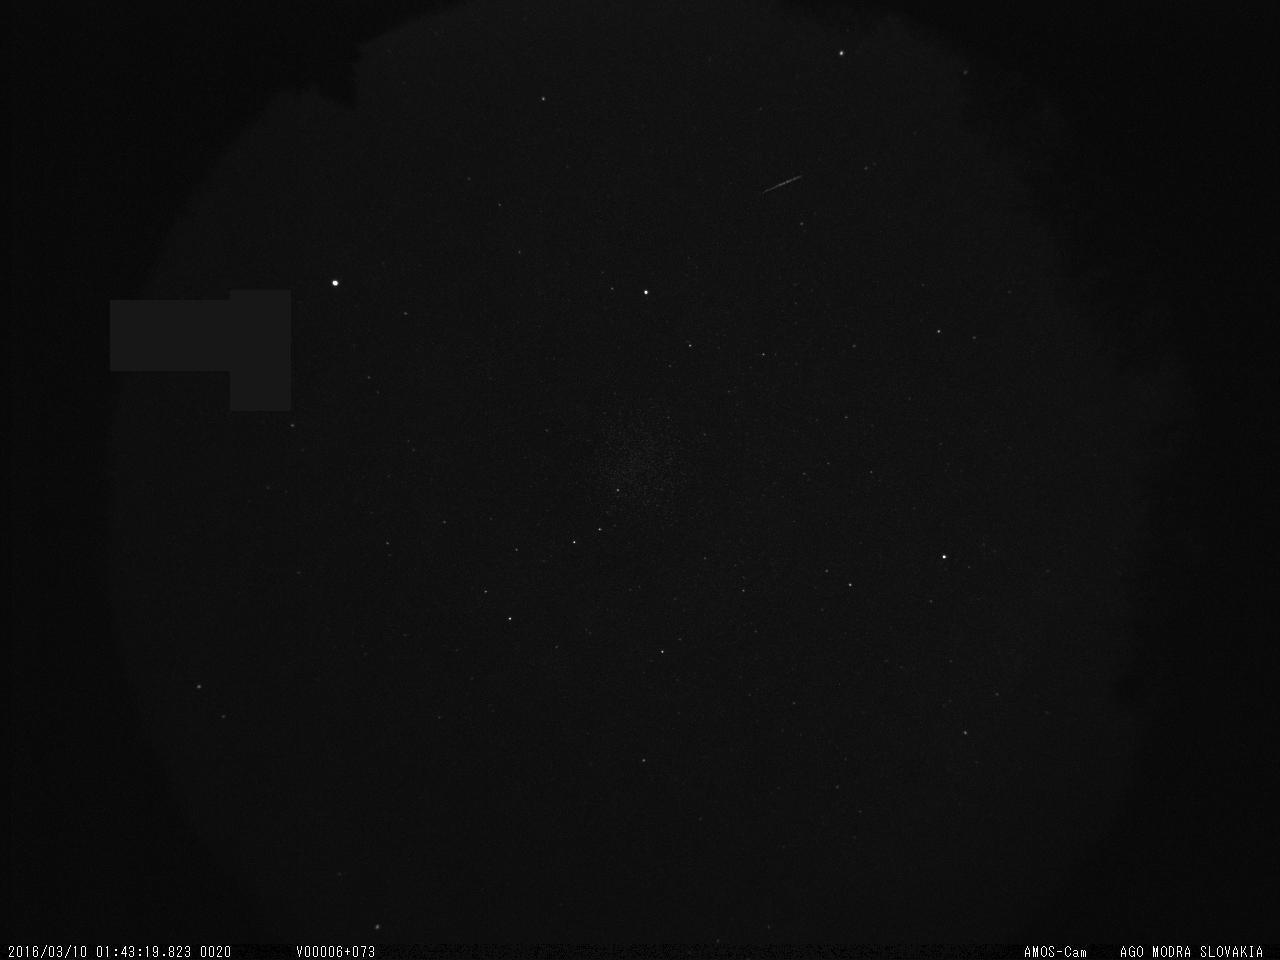meteor: (752, 167, 812, 203)
